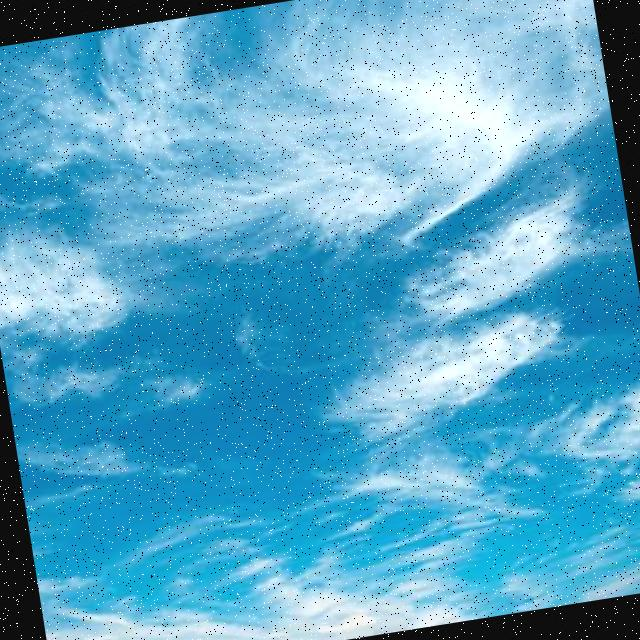Ci: (1, 1, 640, 618)
